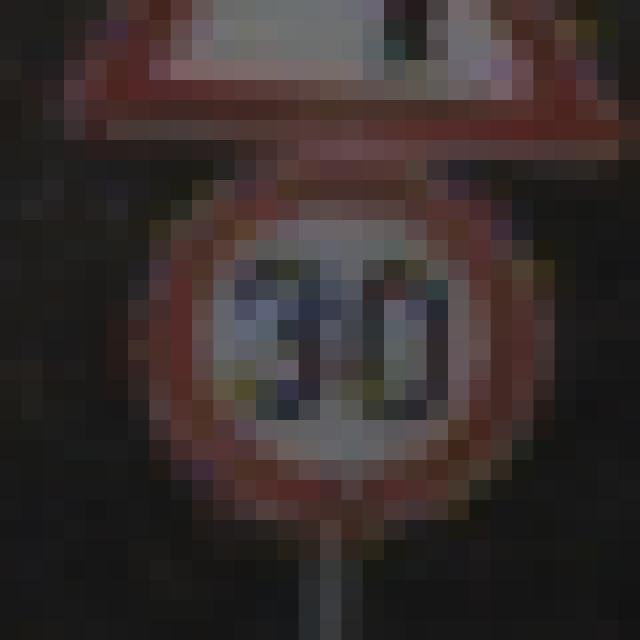Speed Limit -30-: (96, 110, 523, 510)
